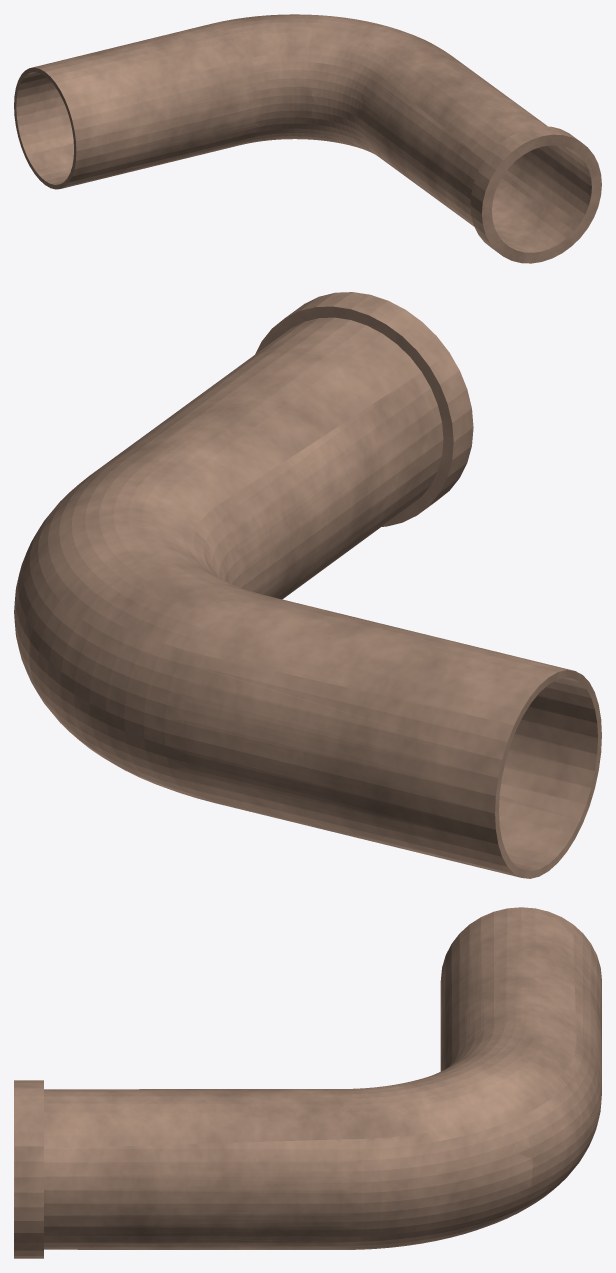
File: Pipe curve 1 no end.glb
The picture shows the model from 3 angles, top to bottom: view 1: azimuth 30°, elevation 25°; view 2: azimuth 150°, elevation 25°; view 3: azimuth 270°, elevation 25°; orthographic projection. The views are drawn at different scales.
Parts seen in each view (by area): view 1: Pipe turn NE; view 2: Pipe turn NE; view 3: Pipe turn NE.
Part boxes in pixels (bbox=[...]): Pipe turn NE: bbox=[14, 14, 601, 263]; Pipe turn NE: bbox=[14, 292, 601, 878]; Pipe turn NE: bbox=[14, 907, 601, 1258].
Bounding box in the file's own units: 12.8 × 4.27 × 14.01.
1 material, 1 textured.
